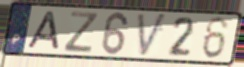2: (166, 16, 196, 58)
6: (100, 11, 130, 56), (201, 16, 230, 61)
A: (26, 10, 61, 51)
V: (136, 12, 169, 59)
Z: (62, 10, 101, 54)
